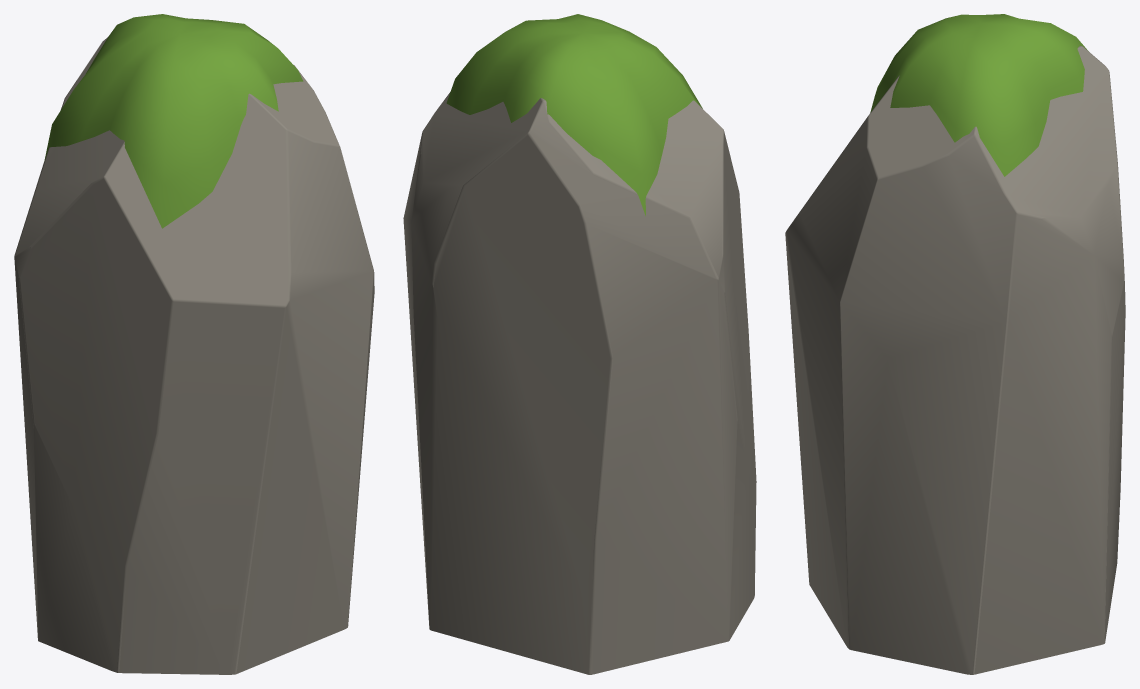
Rendered from rock_a.glb.
The picture shows the model from 3 angles, left to right: view 1: azimuth 30°, elevation 25°; view 2: azimuth 150°, elevation 25°; view 3: azimuth 270°, elevation 25°; orthographic projection.
Parts seen in each view (by area): view 1: rock_a; view 2: rock_a; view 3: rock_a.
Part boxes in pixels (x1=…): rock_a: x1=14, y1=14, x2=374, y2=674; rock_a: x1=403, y1=14, x2=756, y2=674; rock_a: x1=785, y1=14, x2=1125, y2=674.
Bounding box in the file's own units: 1.52 × 2.63 × 1.41.
